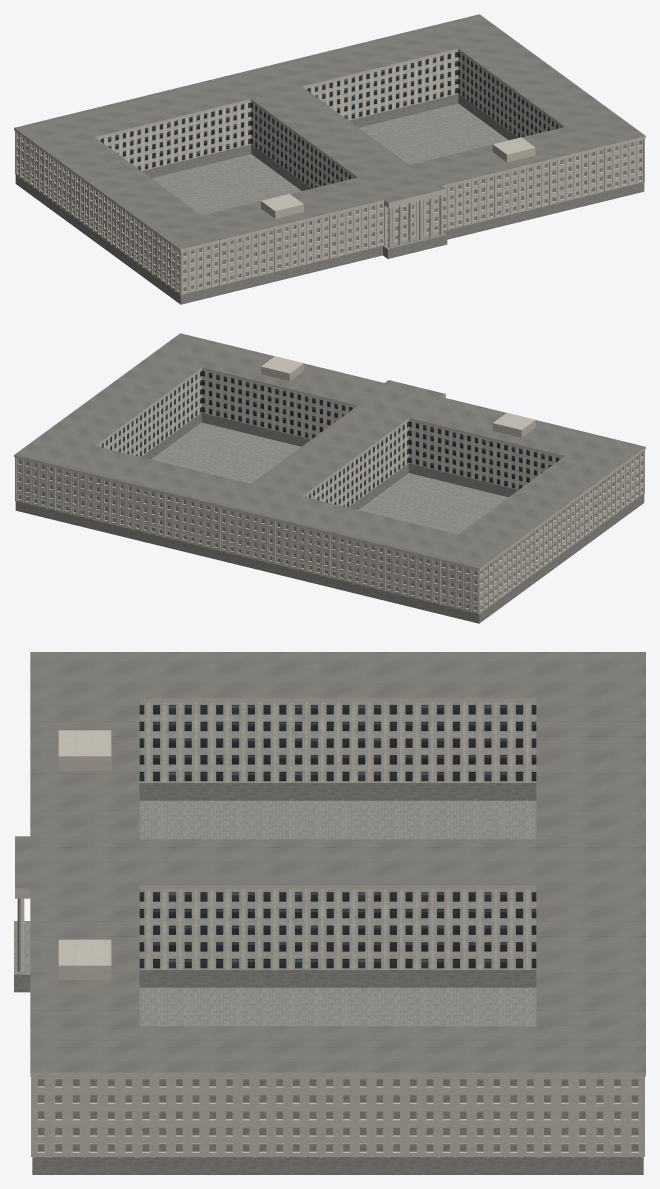
File: rayburn_house.glb
3 views of the same model, one above another, from view 1: azimuth 30°, elevation 25°; view 2: azimuth 150°, elevation 25°; view 3: azimuth 270°, elevation 25° (orthographic). The views are drawn at different scales.
Parts seen in each view (by area): view 1: rayburn_house; view 2: rayburn_house; view 3: rayburn_house.
Boxes of the visible parts, x1=… form: rayburn_house: x1=14, y1=14, x2=645, y2=304; rayburn_house: x1=14, y1=333, x2=645, y2=623; rayburn_house: x1=14, y1=652, x2=645, y2=1174.
Size of the model in its own units: 227 by 29.6 by 144.
Materials: 4 (4 with a texture image).
